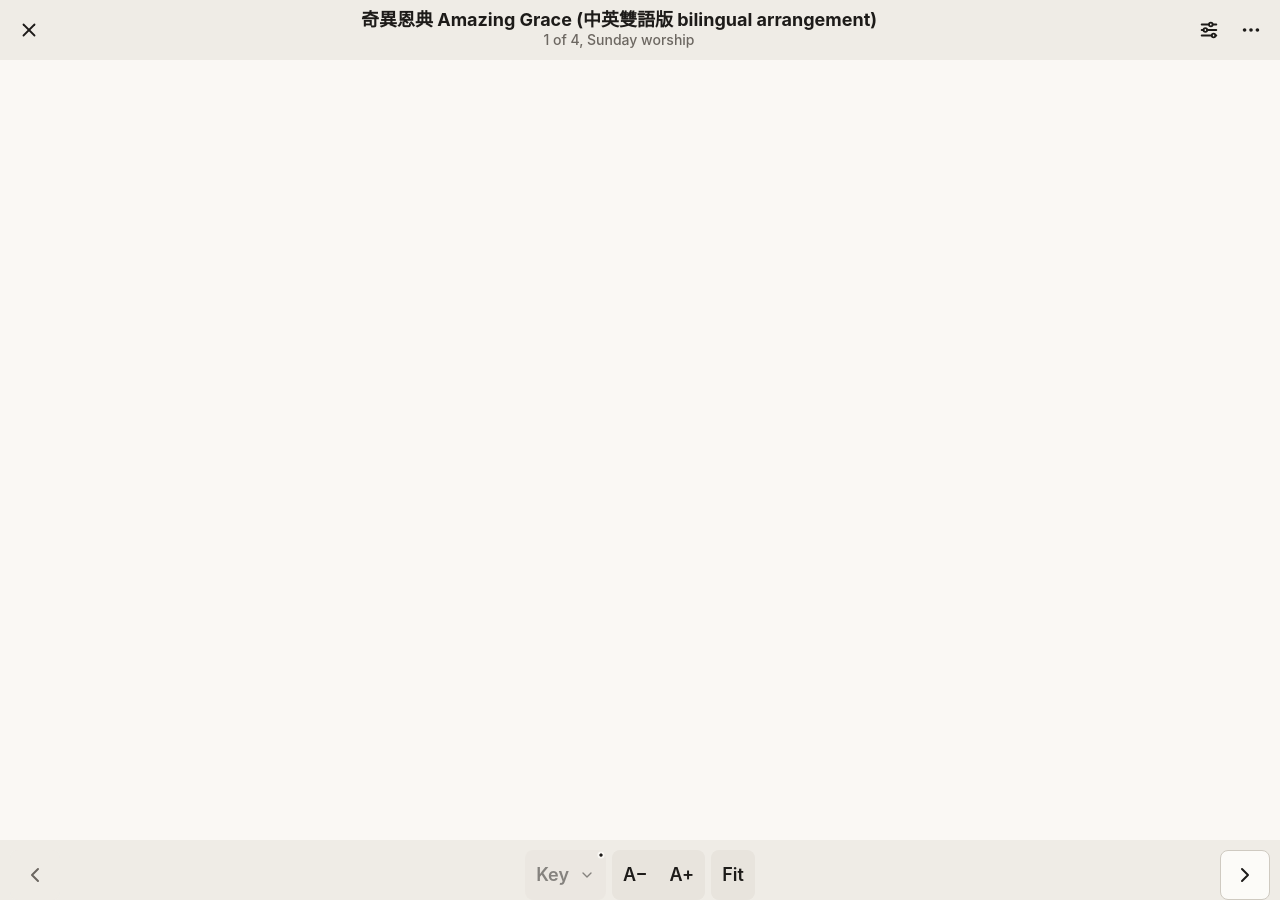
Test: playback layouts › phone: a per-song number notation override shows on the dock and in the More menu
This screenshot has width=1280, height=900.
Click the button named "More display options": (1251, 30) [1230,9,1272,51]
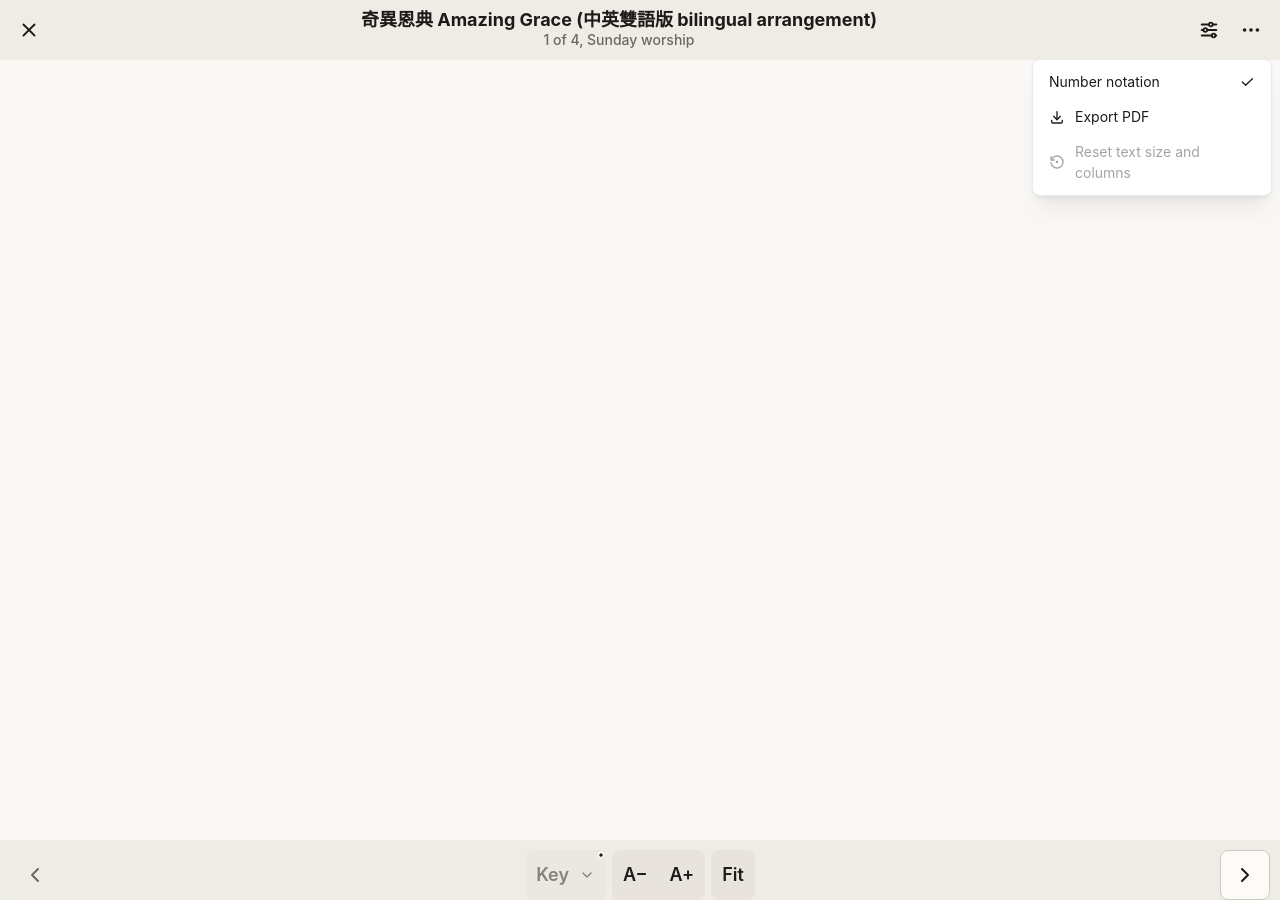
Expected: the menu item named "Number notation, on" is shown, [1037,64,1267,99]
